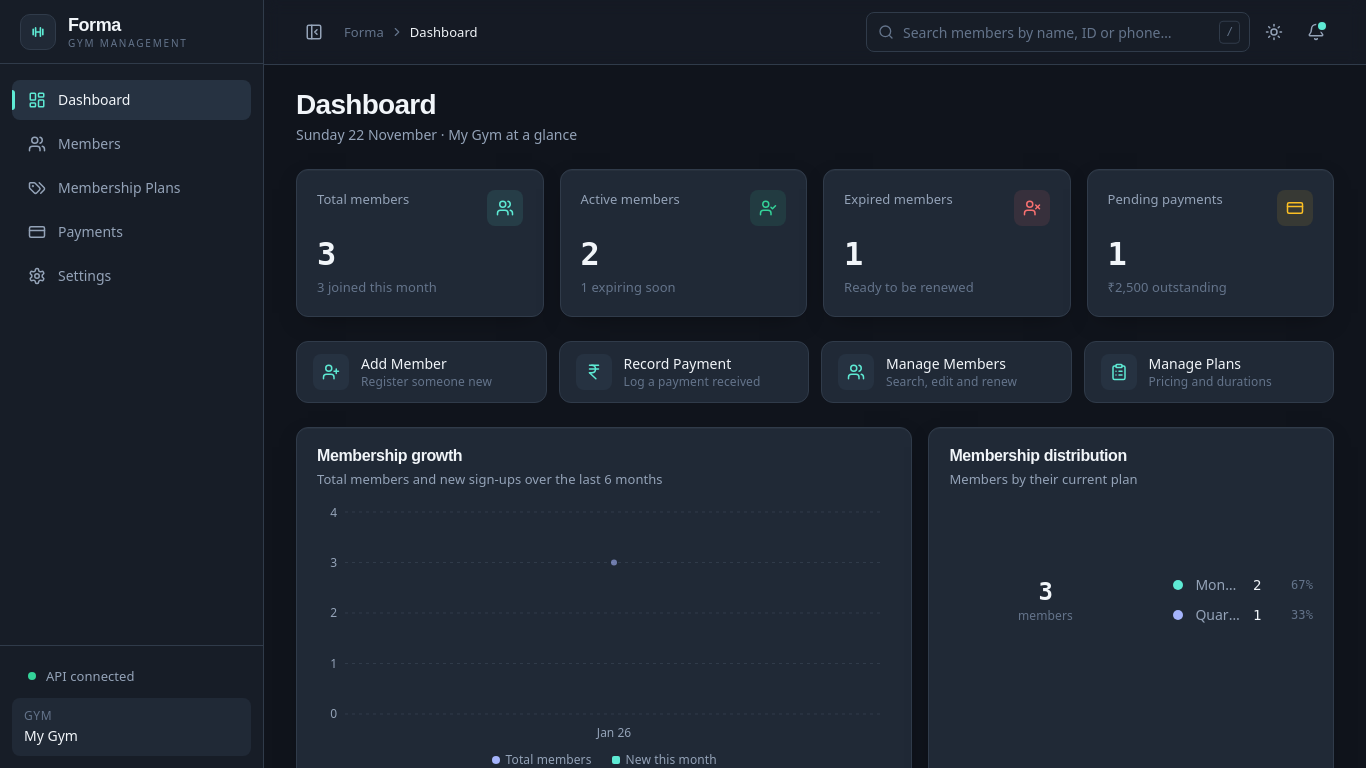
App shell › lists items needing attention in the notification menu
What coordinates should you click on to do the following:
click the button named "Notifications, 3 items need attention"
I would click on:
 (1316, 32)
Its box is [1298, 14, 1334, 50].
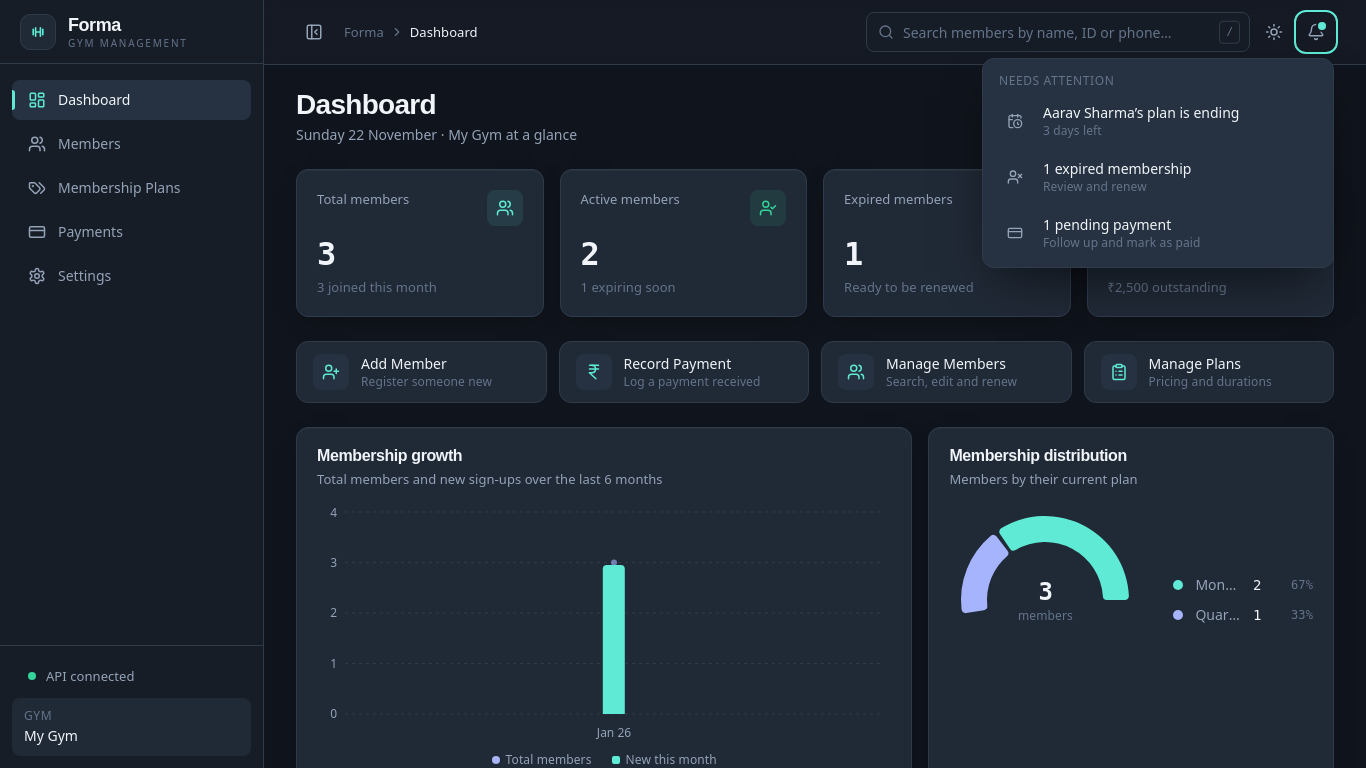
Check: the text "1 expired membership" is shown, box [1043, 159, 1192, 179]
Check: the text "1 pending payment" is shown, box [1043, 215, 1171, 234]
